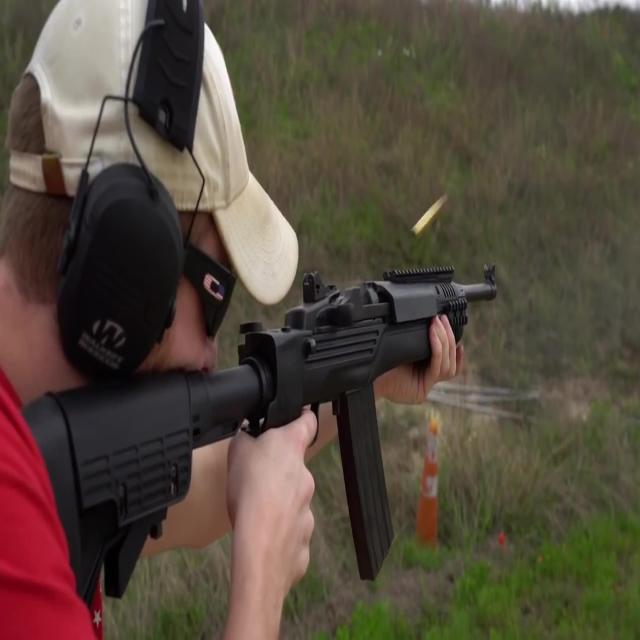Weapon: (9, 200, 528, 566)
